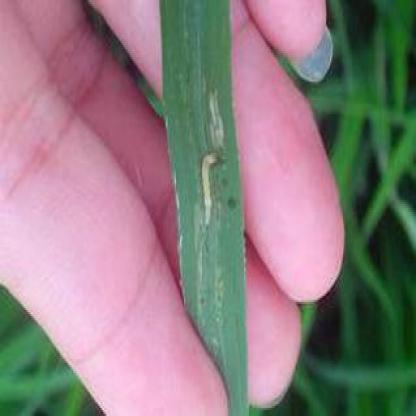leaf-folder: (188, 138, 226, 230)
